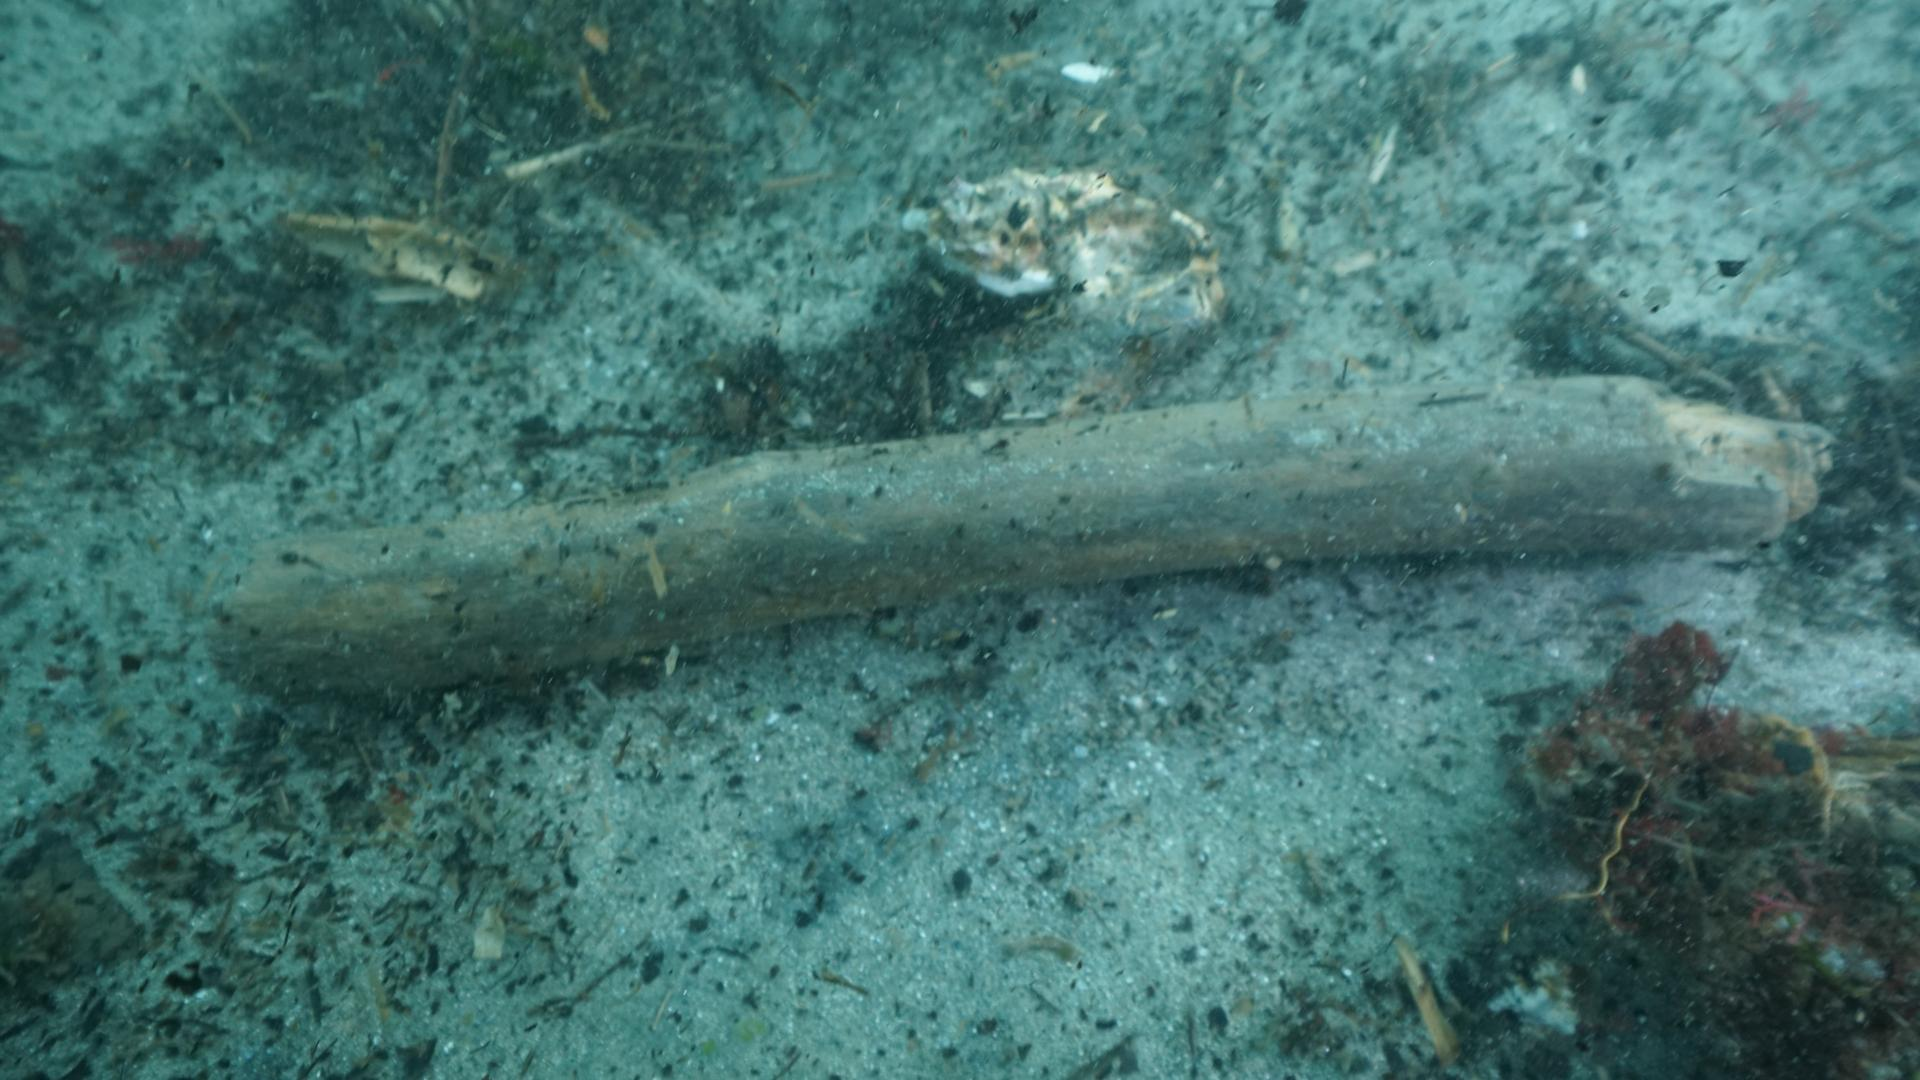wood: (193, 375, 1832, 711)
